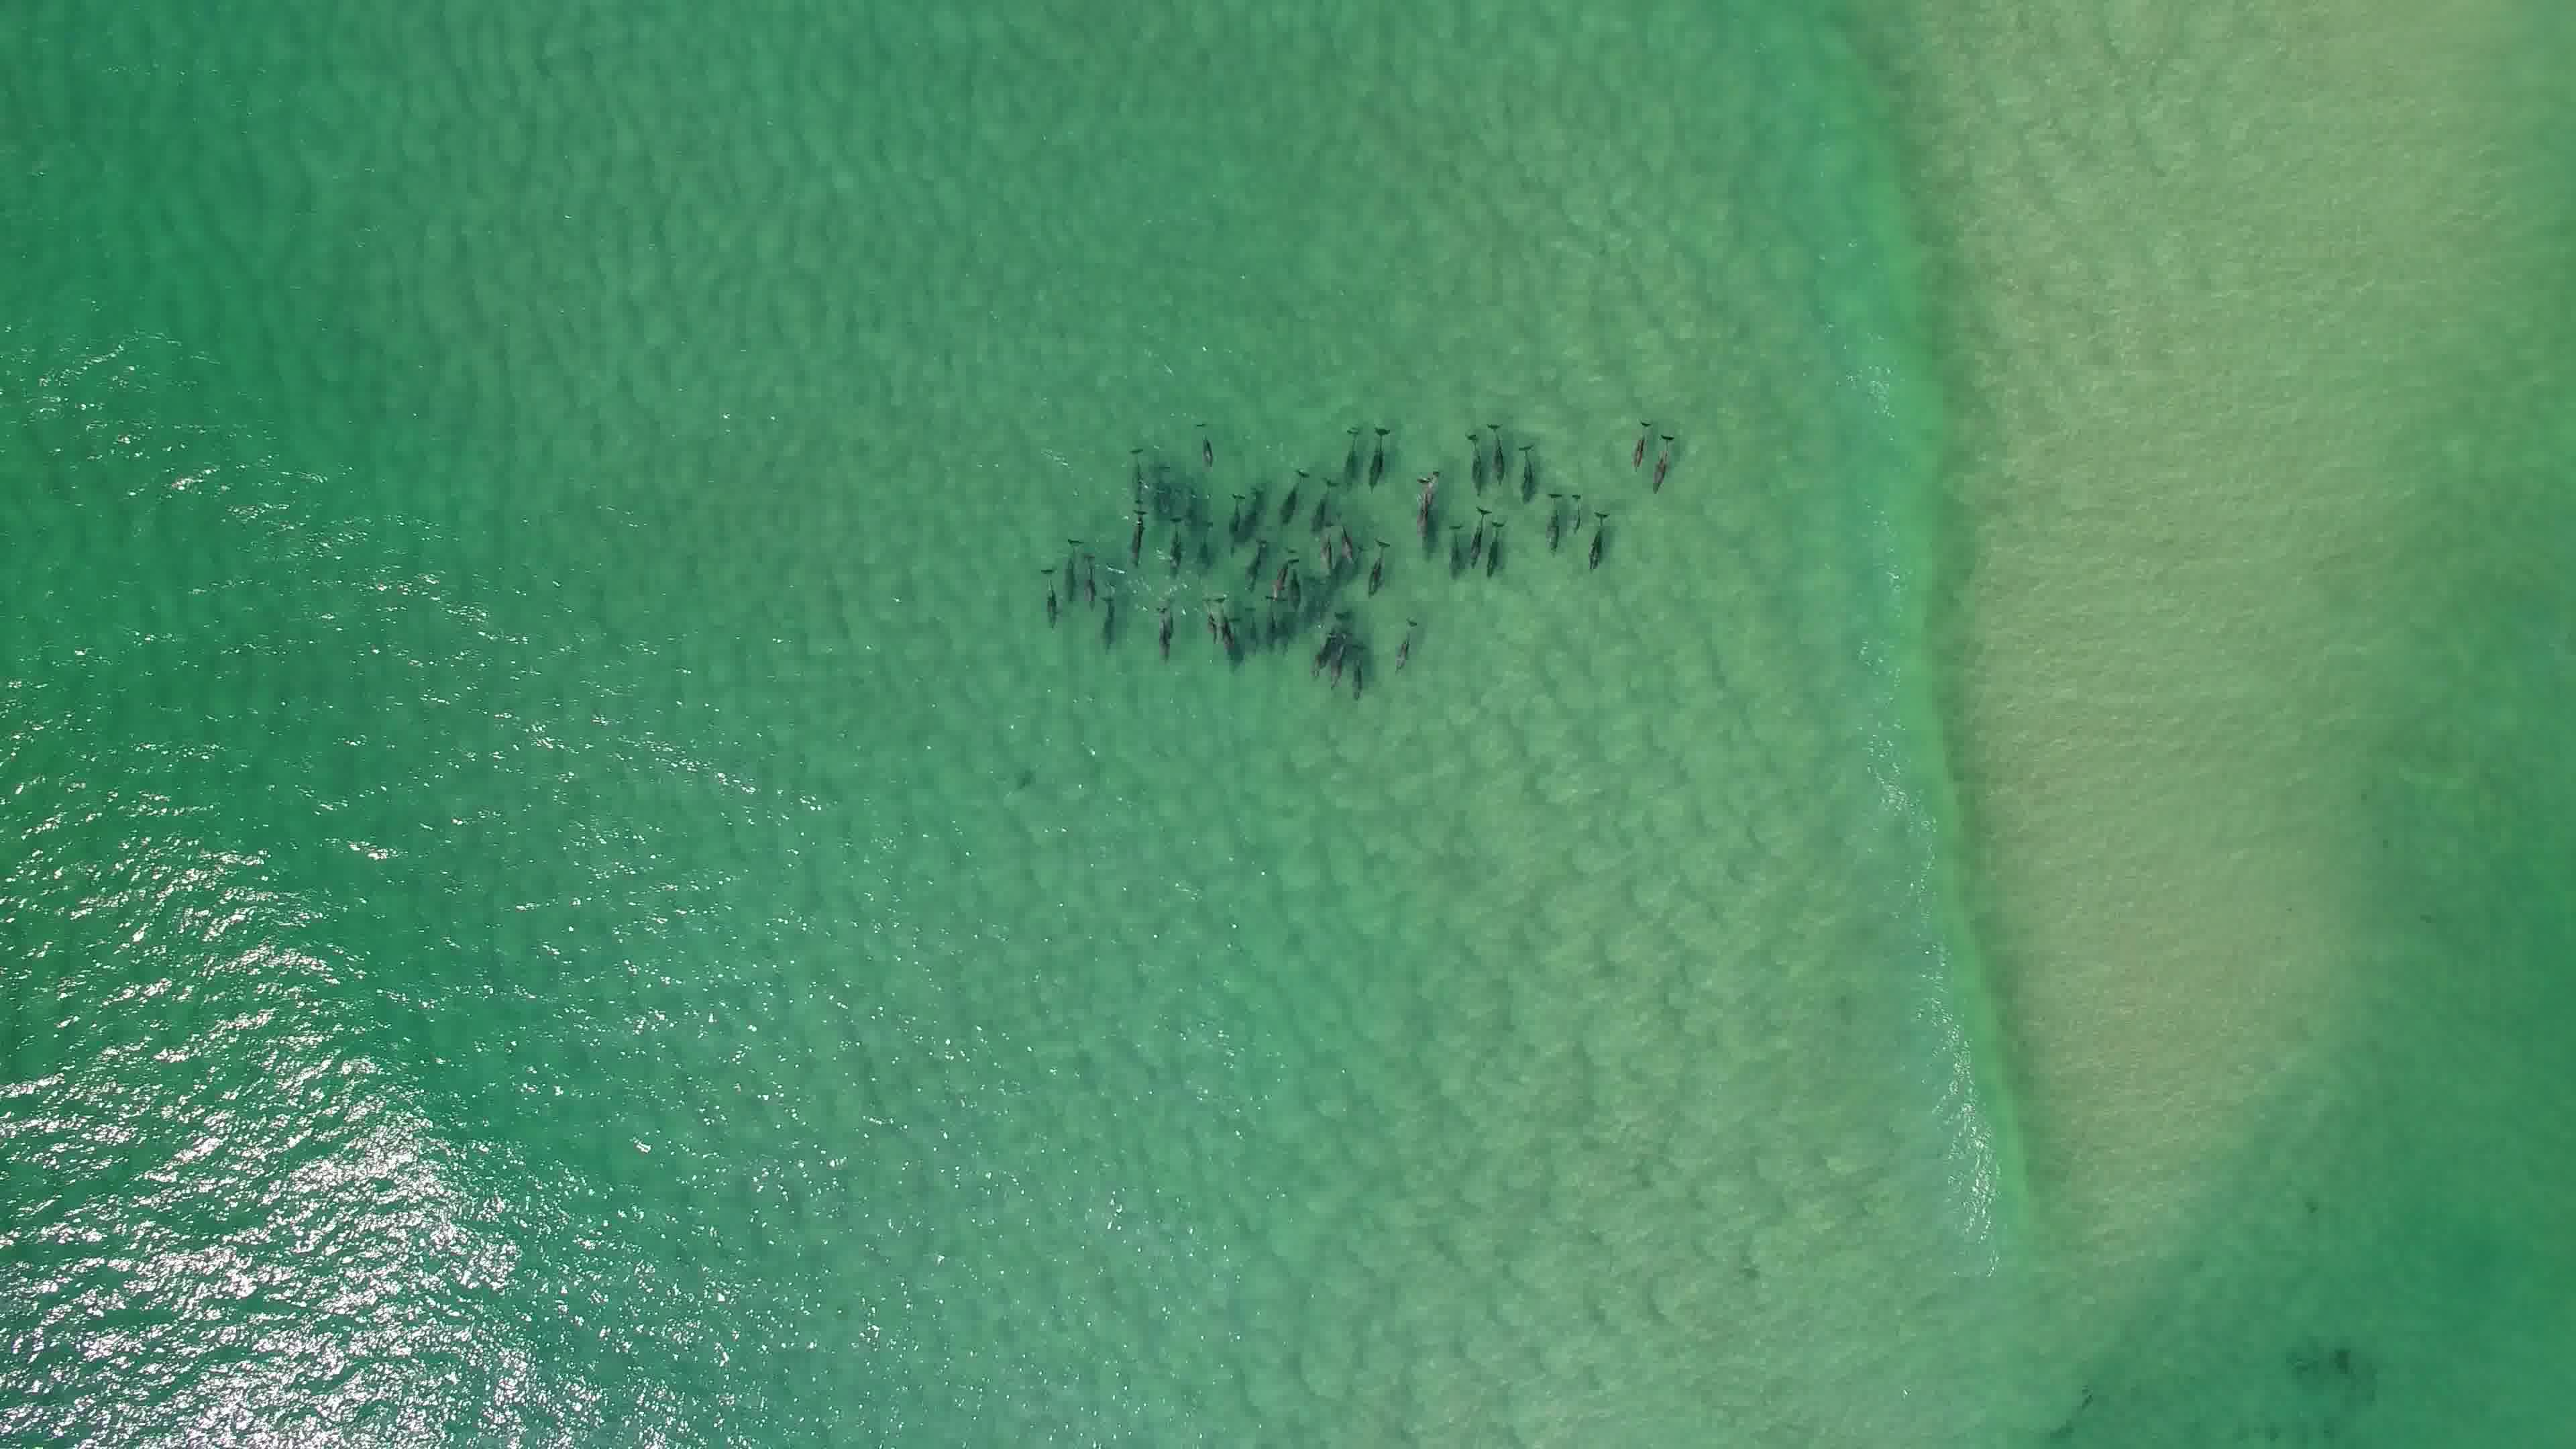dolphin: (1198, 589, 1249, 663), (1146, 589, 1189, 669), (1384, 612, 1431, 679), (1407, 467, 1445, 547), (1644, 426, 1686, 494), (1534, 483, 1571, 556), (1456, 423, 1491, 499), (1330, 412, 1366, 483), (1463, 499, 1493, 582), (1509, 437, 1545, 504), (1270, 464, 1311, 522), (1159, 508, 1189, 582), (1585, 502, 1612, 586), (1327, 511, 1366, 568), (1361, 421, 1394, 487), (1479, 518, 1513, 582), (1118, 437, 1150, 504), (1362, 533, 1396, 594), (1031, 556, 1062, 625), (1484, 414, 1513, 487), (1622, 410, 1656, 471), (1056, 531, 1083, 607), (1092, 580, 1120, 649), (1311, 617, 1338, 688), (1343, 642, 1371, 704), (1122, 502, 1150, 564), (1306, 474, 1341, 522), (1437, 511, 1463, 571), (1332, 625, 1353, 695), (1313, 522, 1343, 571), (1267, 545, 1292, 605), (1077, 538, 1097, 612), (1189, 418, 1215, 469), (1224, 483, 1244, 547), (1568, 487, 1589, 533)
